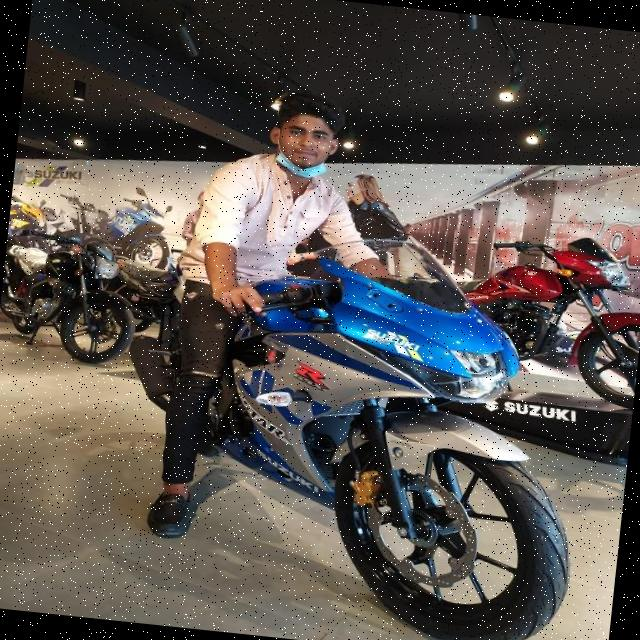No helmet: (262, 88, 359, 188)
